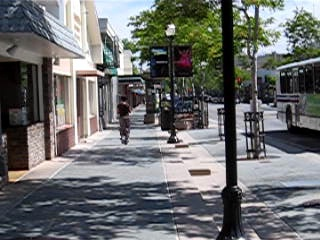person: (116, 94, 131, 145), (115, 94, 130, 145), (117, 94, 132, 145), (116, 93, 131, 144), (116, 95, 131, 146)
target_negative: (33, 91, 180, 135), (91, 163, 306, 192), (39, 197, 318, 211), (183, 215, 309, 219), (74, 238, 186, 239), (155, 127, 156, 238)
